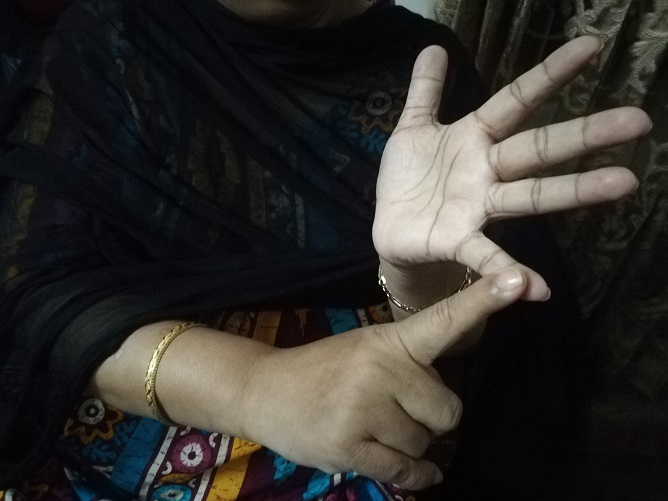i: (374, 36, 648, 476)
